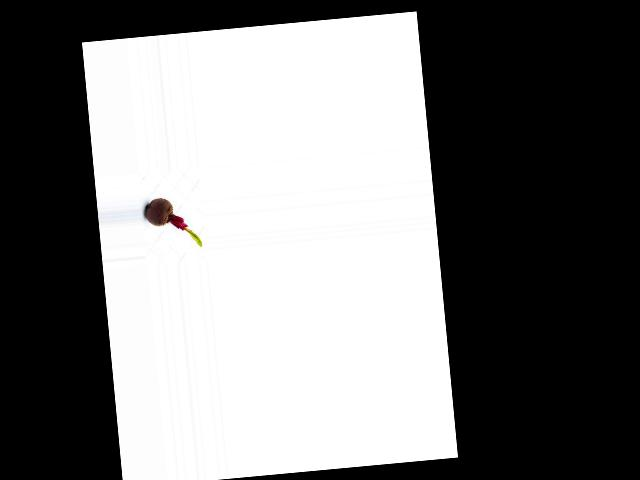beet: (144, 194, 201, 250)
